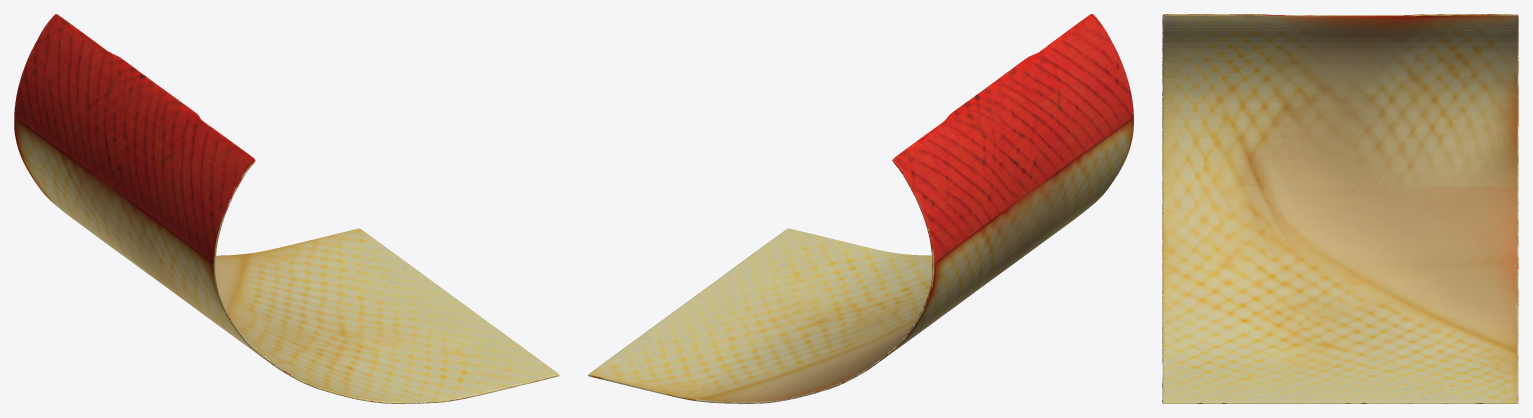
Rendered from image_0004_segmented.glb.
3 renders of one model, left to right at view 1: azimuth 30°, elevation 25°; view 2: azimuth 150°, elevation 25°; view 3: azimuth 270°, elevation 25°, orthographic. The views are drawn at different scales.
Visible parts, largest first — view 1: tmpsk3gxvzg.ply; view 2: tmpsk3gxvzg.ply; view 3: tmpsk3gxvzg.ply.
Boxes of the visible parts, x1,y1,x2,y2 form: tmpsk3gxvzg.ply: (14, 14, 559, 403); tmpsk3gxvzg.ply: (588, 14, 1133, 403); tmpsk3gxvzg.ply: (1162, 14, 1518, 403).
Size of the model in its own units: 1.99 by 1.6 by 2.
Materials: 1 (1 with a texture image).
